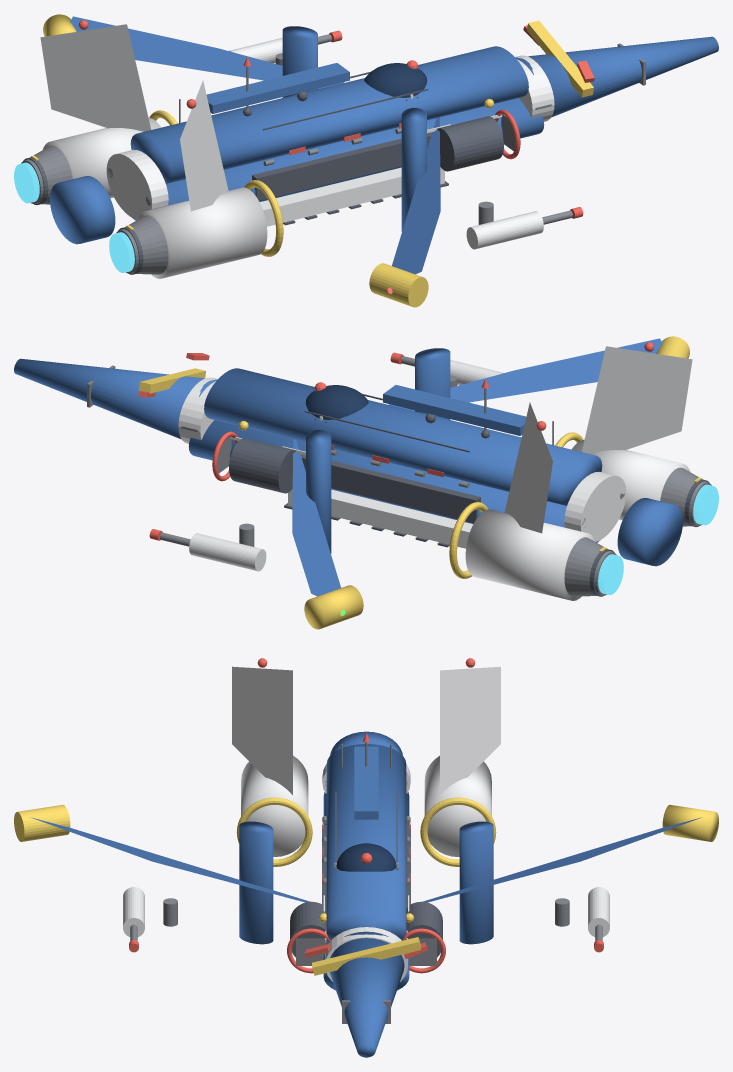
The model's file is starfighter_anime_v2.gltf.
3 views of the same model, one above another, from view 1: azimuth 30°, elevation 25°; view 2: azimuth 150°, elevation 25°; view 3: azimuth 270°, elevation 25° (orthographic). The views are drawn at different scales.
Visible parts, largest first — view 1: Cylinder.001, Stab_1, Cylinder.010, Cone, Cylinder, Wing_1, Cube.005, Stab_-1, Cube.007, Wing_-1, Cylinder.039, Cylinder.005 (+17 smaller); view 2: Cylinder.001, Stab_-1, Cylinder.012, Cone, Cylinder, Wing_-1, Cube.006, Stab_1, Cube.007, Wing_1, Cylinder.039, Cylinder.005 (+17 smaller); view 3: Cylinder.001, Stab_-1, Stab_1, Cone, Cylinder.006, Cylinder.007, Cylinder.010, Cylinder.012, Cube.087, Wing_-1, Wing_1, Cylinder.008 (+11 smaller).
Boxes of the visible parts, left/top/right/bottom form: Cylinder.001: left=130, top=46, right=528, bottom=183; Stab_1: left=40, top=24, right=151, bottom=131; Cylinder.010: left=137, top=187, right=267, bottom=278; Cone: left=516, top=36, right=718, bottom=117; Cylinder: left=132, top=98, right=544, bottom=220; Wing_1: left=70, top=16, right=344, bottom=89; Cube.005: left=252, top=132, right=432, bottom=200; Stab_-1: left=180, top=80, right=228, bottom=211; Cube.007: left=259, top=167, right=444, bottom=226; Wing_-1: left=392, top=117, right=440, bottom=274; Cylinder.039: left=50, top=176, right=115, bottom=244; Cylinder.005: left=106, top=149, right=168, bottom=219; Cylinder.001: left=204, top=368, right=602, bottom=505; Stab_-1: left=581, top=346, right=692, bottom=453; Cylinder.012: left=465, top=509, right=595, bottom=600; Cone: left=14, top=358, right=216, bottom=439; Cylinder: left=188, top=420, right=600, bottom=542; Wing_-1: left=388, top=338, right=662, bottom=411; Cube.006: left=300, top=454, right=480, bottom=522; Stab_1: left=504, top=402, right=552, bottom=533; Cube.007: left=288, top=489, right=473, bottom=548; Wing_1: left=292, top=439, right=340, bottom=596; Cylinder.039: left=617, top=498, right=682, bottom=566; Cylinder.005: left=564, top=471, right=626, bottom=541; Cylinder.001: left=326, top=744, right=406, bottom=940; Stab_-1: left=232, top=666, right=292, bottom=794; Stab_1: left=440, top=666, right=500, bottom=794; Cone: left=330, top=931, right=404, bottom=1057; Cylinder.006: left=239, top=821, right=273, bottom=944; Cylinder.007: left=459, top=821, right=493, bottom=944; Cylinder.010: left=241, top=755, right=308, bottom=856; Cylinder.012: left=424, top=755, right=491, bottom=856; Cube.087: left=354, top=746, right=378, bottom=819; Wing_-1: left=30, top=817, right=326, bottom=907; Wing_1: left=406, top=817, right=702, bottom=907; Cylinder.008: left=14, top=805, right=70, bottom=841.
Size of the model in its own units: 11.75 by 3.26 by 11.52.
